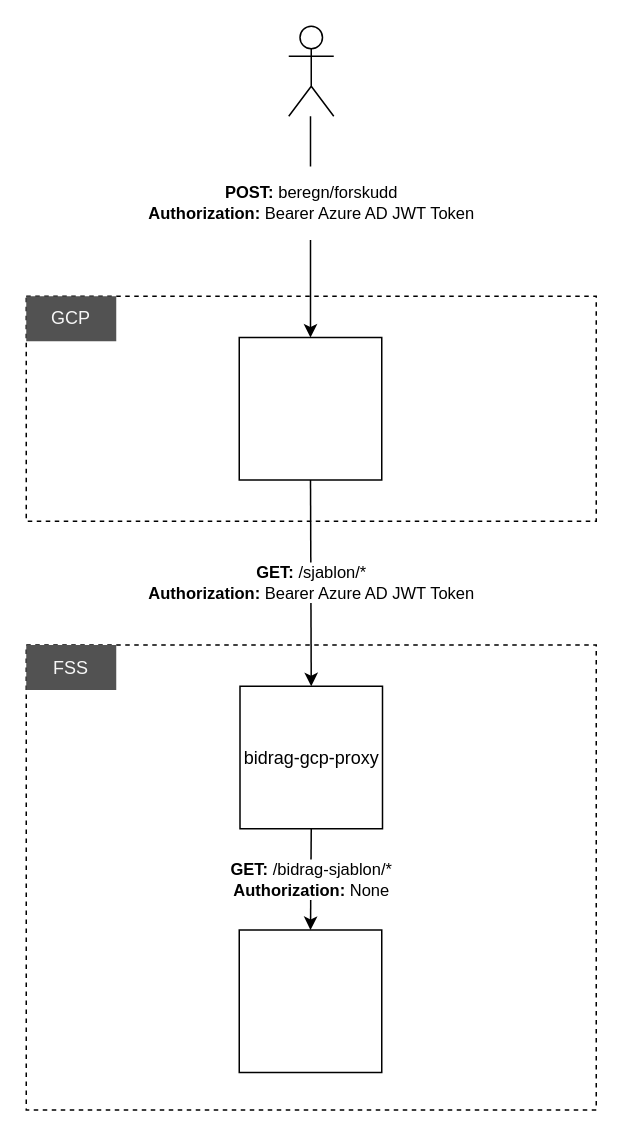
Image size: 623x1137. Some labels were removed from this diagram. The shapes that lost their labels are listed below. From the top down, each one's centre as x and y in pixels, then its label:
At (x=310, y=408): "bidrag-beregn-forskudd-rest".
At (x=310, y=1000): "bidrag-sjablon".
